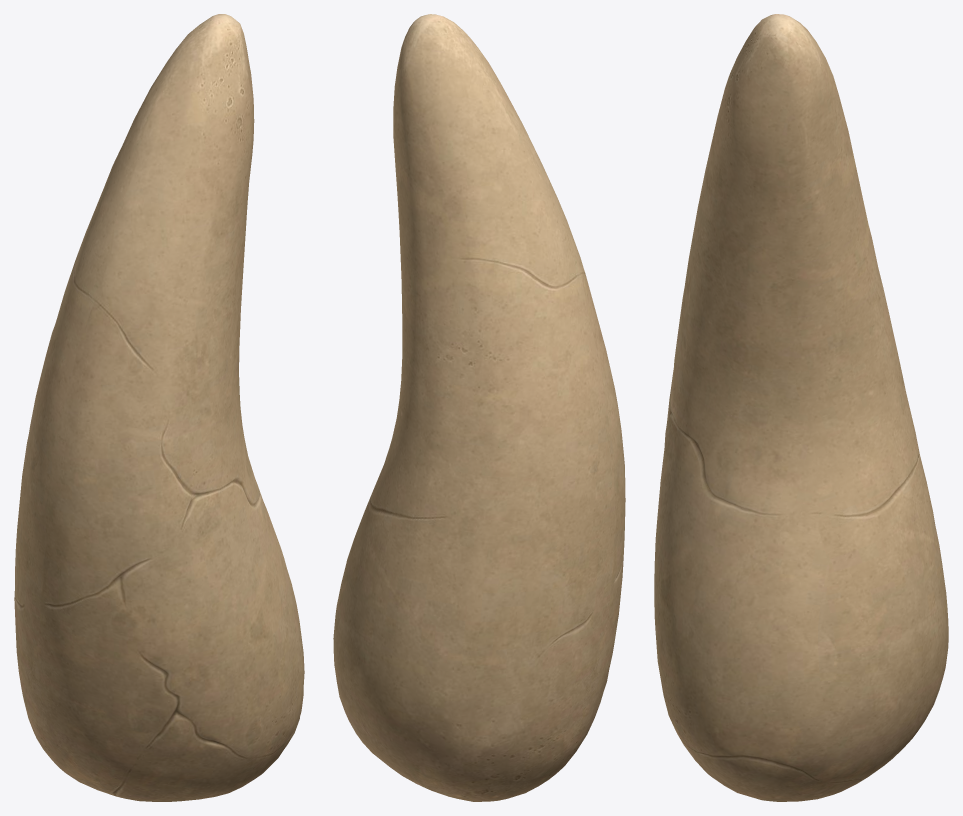
File: tb_bone_02a.glb
The picture shows the model from 3 angles, left to right: view 1: azimuth 30°, elevation 25°; view 2: azimuth 150°, elevation 25°; view 3: azimuth 270°, elevation 25°; orthographic projection. The views are drawn at different scales.
Visible parts, largest first — view 1: tb_bone_02a; view 2: tb_bone_02a; view 3: tb_bone_02a.
Boxes of the visible parts, x1,y1,x2,y2 form: tb_bone_02a: (14, 14, 304, 801); tb_bone_02a: (333, 14, 625, 801); tb_bone_02a: (654, 14, 948, 801).
Size of the model in its own units: 1.57 by 4.47 by 1.51.
Materials: 1 (1 with a texture image).
